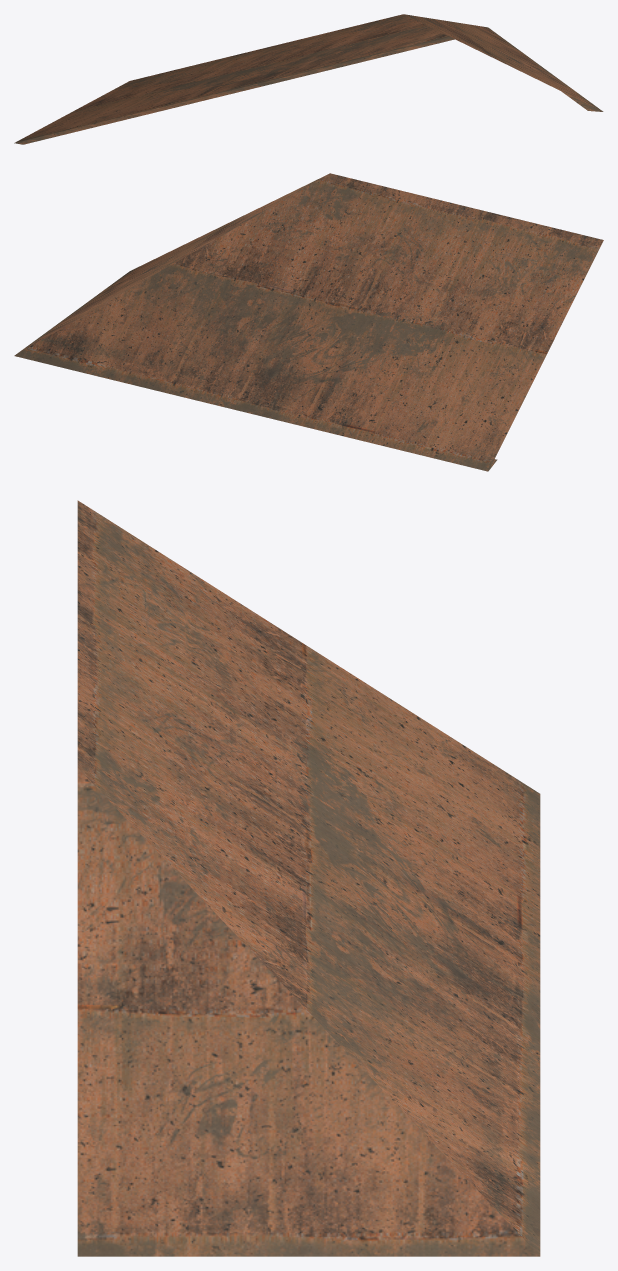
Rendered from HausdachEcke.fbx.
3 renders of one model, top to bottom at view 1: azimuth 30°, elevation 25°; view 2: azimuth 150°, elevation 25°; view 3: azimuth 270°, elevation 25°, orthographic. The views are drawn at different scales.
Parts seen in each view (by area): view 1: DachEcke; view 2: DachEcke; view 3: DachEcke.
Boxes of the visible parts, box(x1,y1,x2,y2) form: DachEcke: box(14, 14, 603, 144); DachEcke: box(14, 173, 603, 471); DachEcke: box(77, 500, 540, 1256).
Size of the model in its own units: 9.69 by 2.87 by 4.1.
